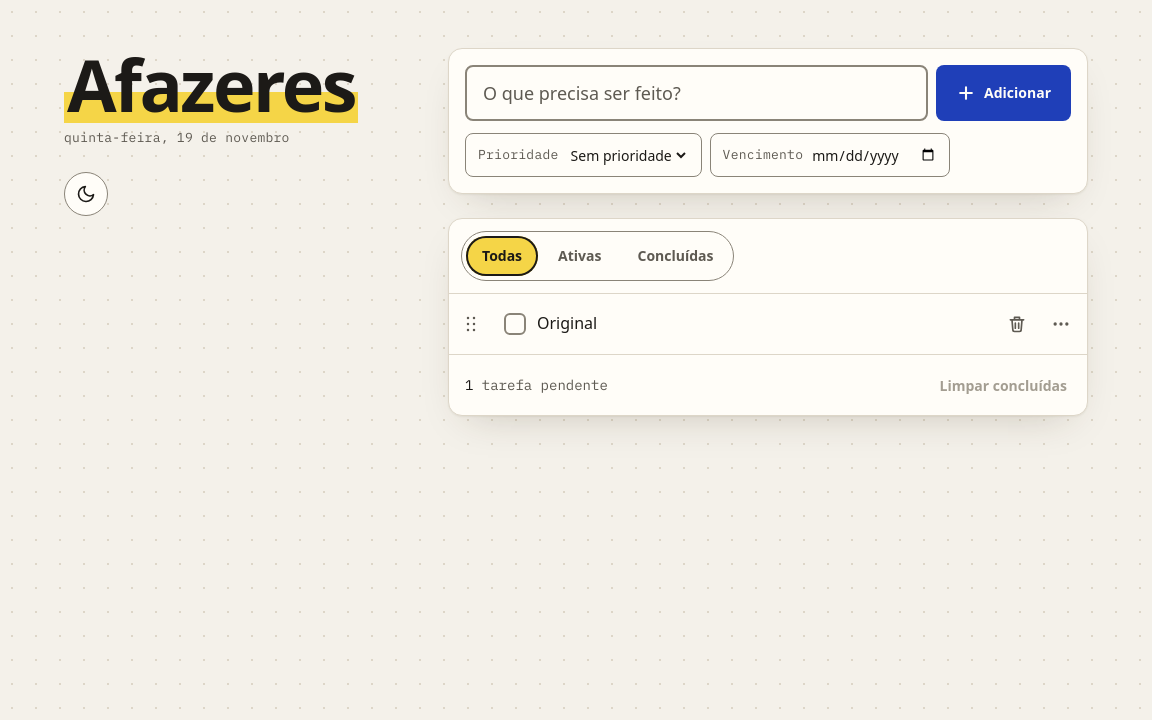
Scenario: editar › edita prioridade e salva ao perder o foco
The image size is (1152, 720).
Double-click the element with class "todo-item__text".
double_click(567, 324)  # box [537,313,597,335]
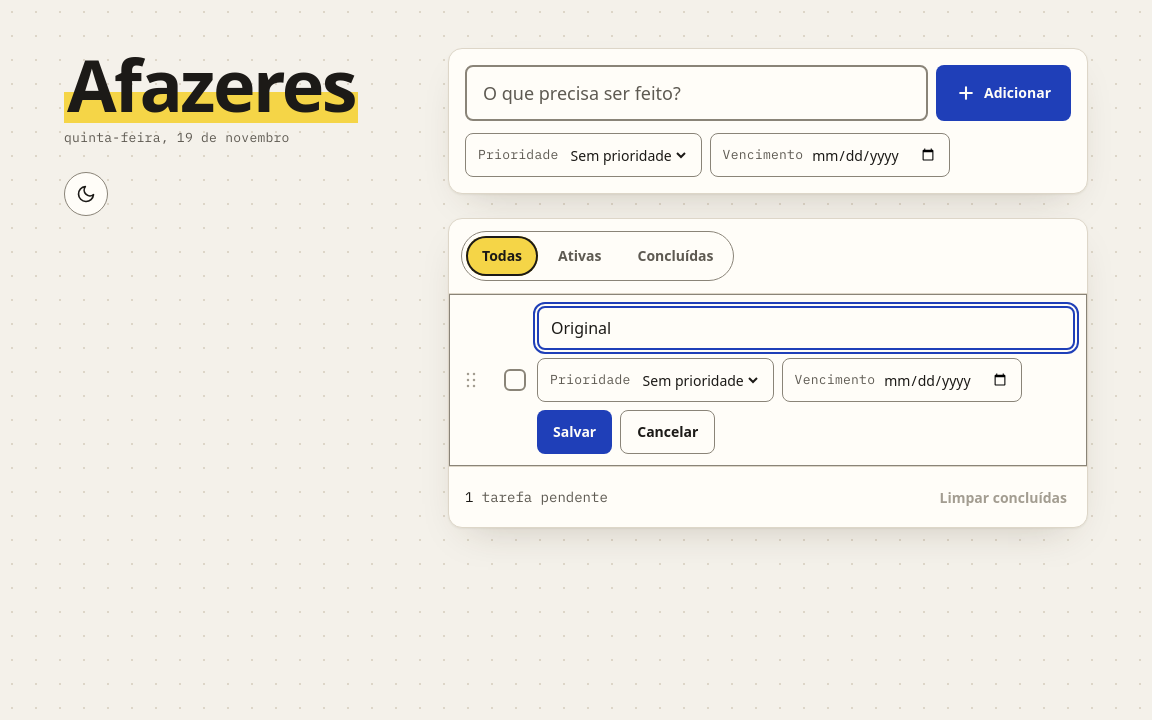
Select "Média" in the 2nd dropdown labelled "Prioridade" at (700, 380), box [639,360,761,400]
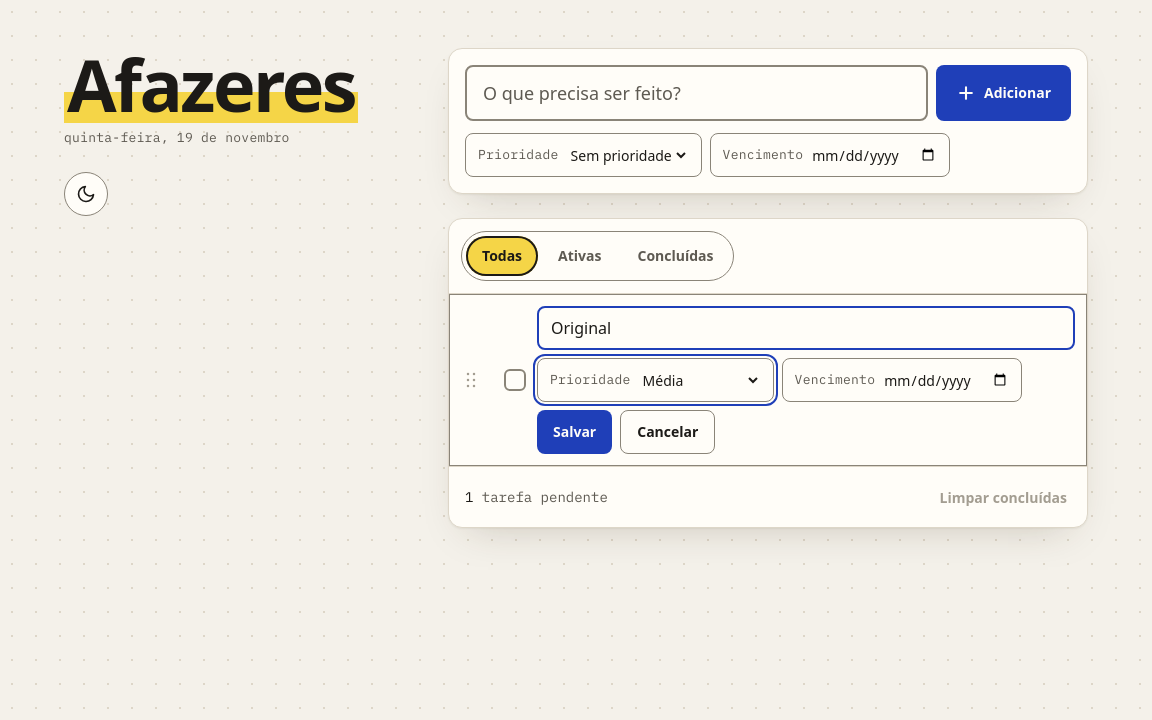
Type "!" into the 2nd field.
click(806, 328); type("!")  # box [537,306,1075,350]
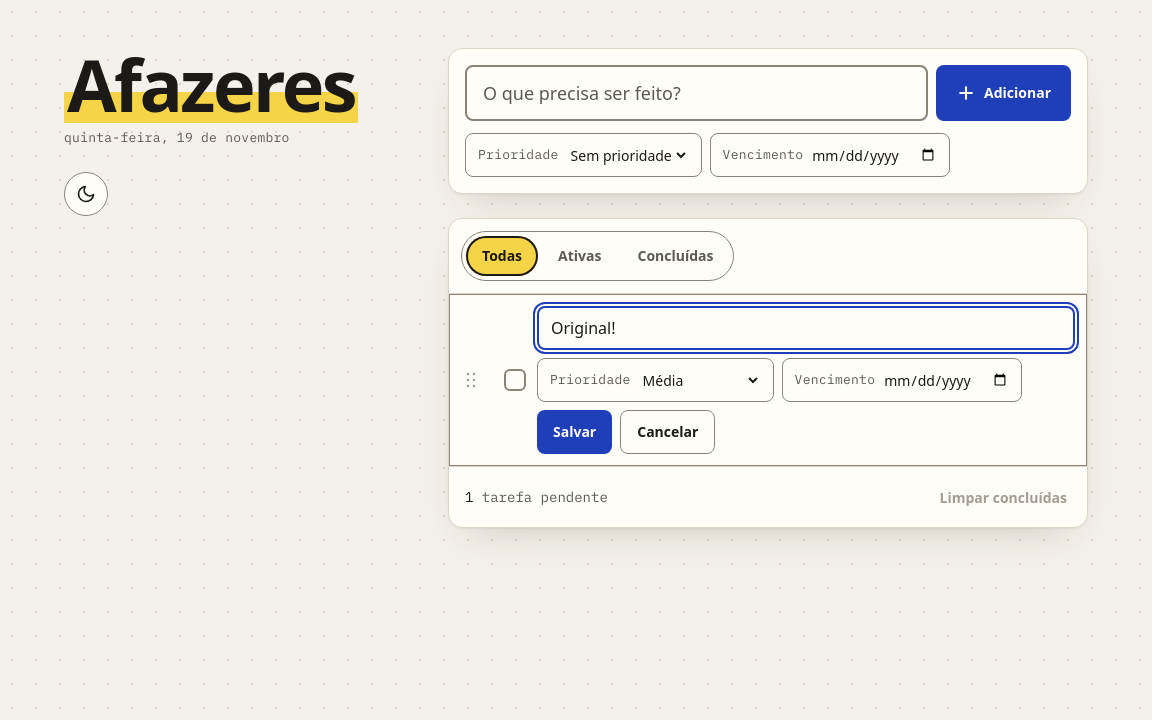
Click the field named "Nova tarefa".
click(697, 93)  # box [465,65,928,121]
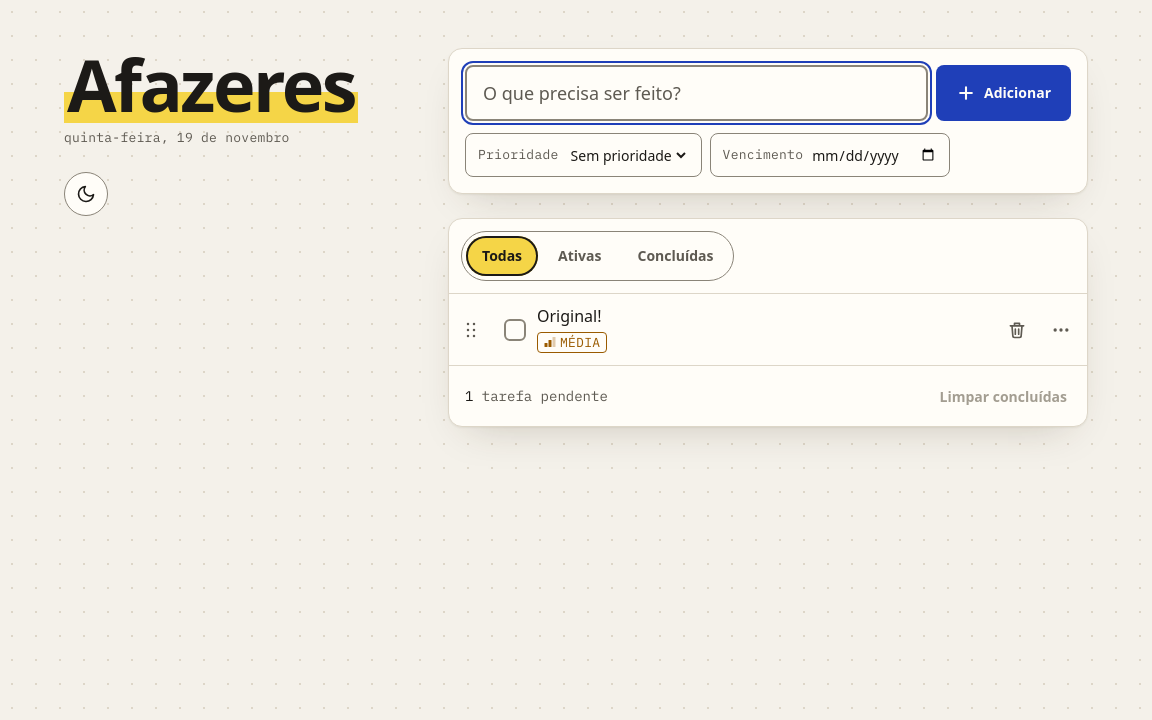
Result: the text "Média" is shown at [537,332,607,353]
